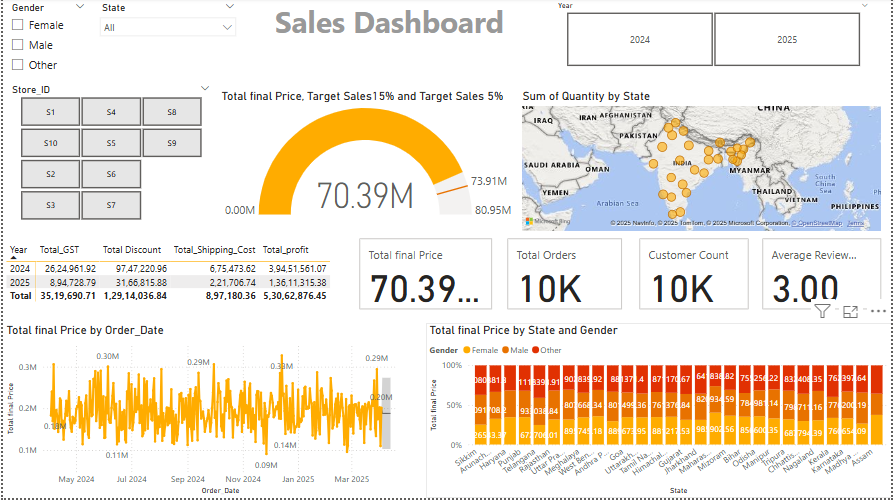

The page's visual inventory and layout, read from the dashboard file:
{"tool":"powerbi","page":{"name":"Sales Dashboard","canvas":[1280,720],"ordinal":1},"visuals":[{"type":"cardVisual","fields":{"Data":["Orders.Total final Price"]},"box":[508.3,341.3,201.6,112.3],"z":0},{"type":"cardVisual","fields":{"Data":["Orders.Total Orders"]},"box":[721.4,341.3,175.7,112.3],"z":1000},{"type":"cardVisual","fields":{"Data":["Orders.Customer Count"]},"box":[911.5,341.3,167,112.3],"z":2000},{"type":"cardVisual","fields":{"Data":["Orders.Average Review Rating"]},"box":[1088.6,341.3,181.4,112.3],"z":3000},{"type":"gauge","fields":{"Y":["Orders.Total final Price"],"MaxValue":["Orders.Target Sales15%"],"TargetValue":["Orders.Target Sales 5%"]},"box":[309.6,131,433.4,194.4],"z":4000},{"type":"lineChart","fields":{"Category":["Orders.Order_Date"],"Y":["Orders.Total final Price"]},"box":[0,468,589,252],"z":5000},{"type":"hundredPercentStackedColumnChart","fields":{"Category":["Customers.State"],"Y":["Orders.Total final Price"],"Series":["Customers.Gender"]},"box":[609.1,468,671,252],"z":6000},{"type":"slicer","fields":{"Values":["Customers.Gender"]},"box":[0,0,130,117.5],"z":7000},{"type":"slicer","fields":{"Values":["Customers.State"]},"box":[130,0,216.2,91.2],"z":8000},{"type":"slicer","fields":{"Values":["Orders.Store_ID"]},"box":[0,117.5,310,207.5],"z":9000},{"type":"textbox","box":[362.9,0,410.4,70.6],"z":10000},{"type":"pivotTable","fields":{"Rows":["DateTable.Year"],"Values":["Orders.Total_GST","Orders.Total Discount","Orders.Total_Shipping_Cost","Orders.Total_profit"]},"box":[0,347,495.4,100.8],"z":11000},{"type":"map","fields":{"Category":["Customers.State Hierarchy.State"],"Size":["Sum(Orders.Quantity)"]},"box":[743,131,527,210.2],"z":12000},{"type":"slicer","fields":{"Values":["DateTable.Year Hierarchy.Year","DateTable.Year Hierarchy.Year-Month"]},"box":[777.6,0,229,103.7],"z":13000}]}

Visuals, with their boxes in screenshot pixels (x1, y1, x2, y2), scaled from the page's 1280x720 canvas onto the 895x503 screenshot:
cardVisual - Orders.Total final Price: <bbox>355, 238, 496, 317</bbox>
cardVisual - Orders.Total Orders: <bbox>504, 238, 627, 317</bbox>
cardVisual - Orders.Customer Count: <bbox>637, 238, 754, 317</bbox>
cardVisual - Orders.Average Review Rating: <bbox>761, 238, 888, 317</bbox>
gauge - Orders.Total final Price x Orders.Target Sales15%: <bbox>216, 92, 520, 227</bbox>
lineChart - Orders.Order_Date x Orders.Total final Price: <bbox>0, 327, 412, 502</bbox>
hundredPercentStackedColumnChart - Customers.State x Orders.Total final Price: <bbox>426, 327, 894, 502</bbox>
slicer - Customers.Gender: <bbox>0, 0, 91, 82</bbox>
slicer - Customers.State: <bbox>91, 0, 242, 64</bbox>
slicer - Orders.Store_ID: <bbox>0, 82, 217, 227</bbox>
textbox: <bbox>254, 0, 541, 49</bbox>
pivotTable - DateTable.Year x Orders.Total_GST: <bbox>0, 242, 346, 313</bbox>
map - Customers.State Hierarchy.State x Sum(Orders.Quantity): <bbox>520, 92, 888, 238</bbox>
slicer - DateTable.Year Hierarchy.Year x DateTable.Year Hierarchy.Year-Month: <bbox>544, 0, 704, 72</bbox>
